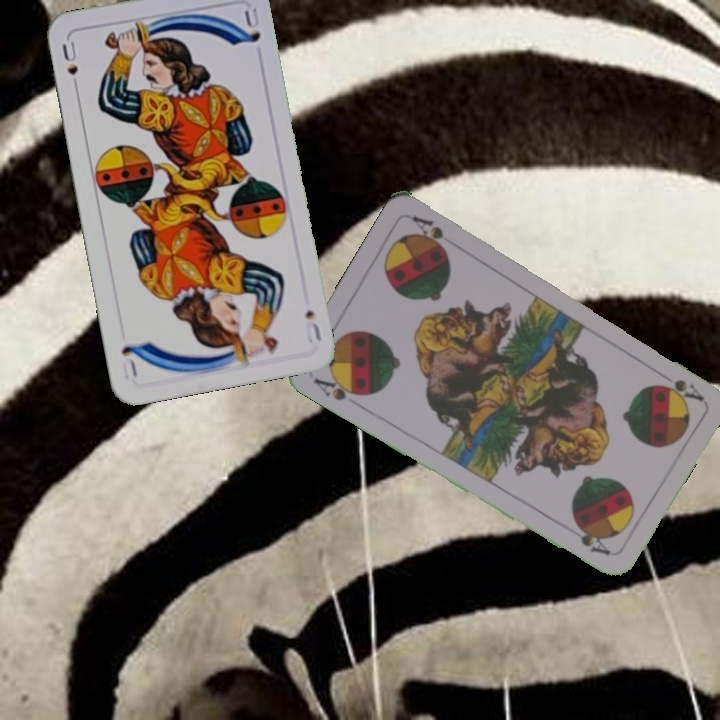SA: (309, 370, 368, 410), (652, 366, 706, 404)
SU: (58, 37, 82, 95), (301, 306, 324, 346)
